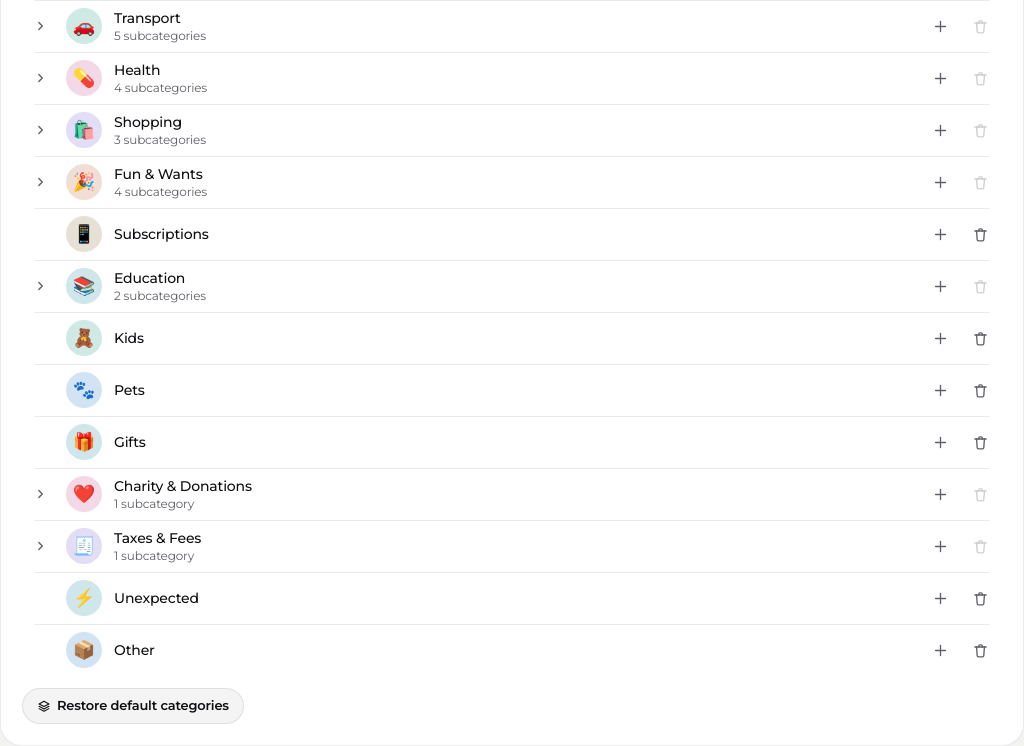
Test: CategoriesCard › says when the defaults are already there
(page scrolled)
Click the button "Restore default categories": (133, 706) [22,688,244,724]
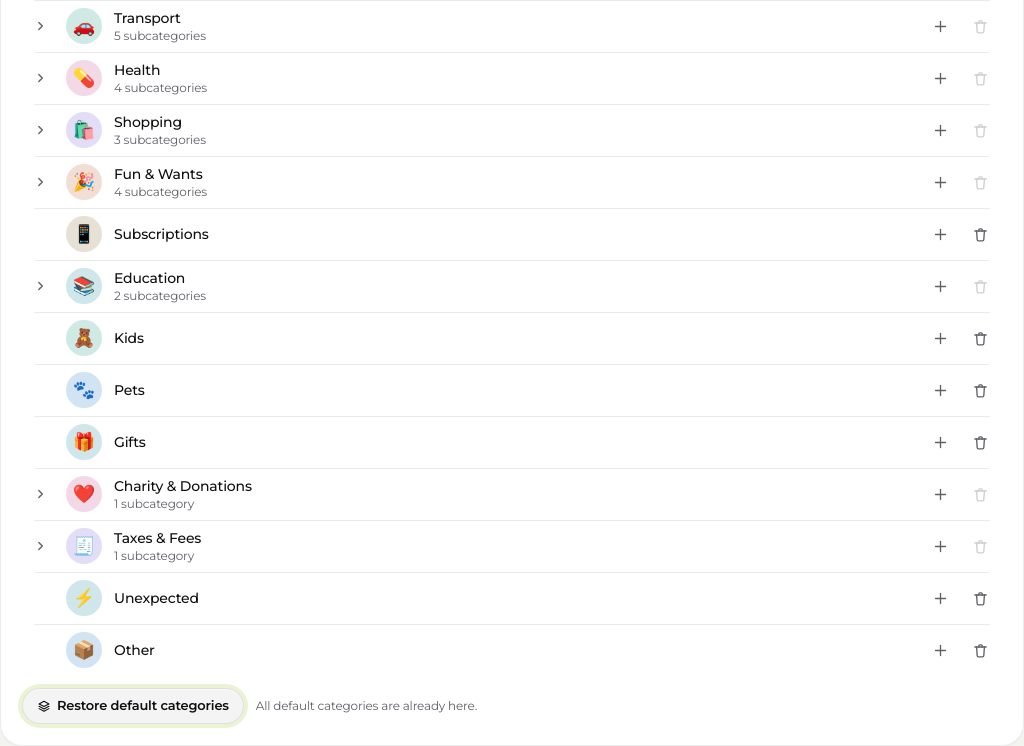
Now the text "All default categories are already here." is shown, box [256,698,477,714]
